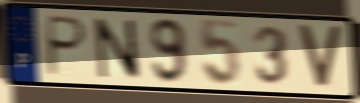3: (250, 24, 290, 87)
5: (196, 19, 244, 89)
9: (148, 16, 189, 85)
N: (92, 16, 144, 82)
P: (44, 14, 90, 79)
V: (294, 22, 345, 92)
